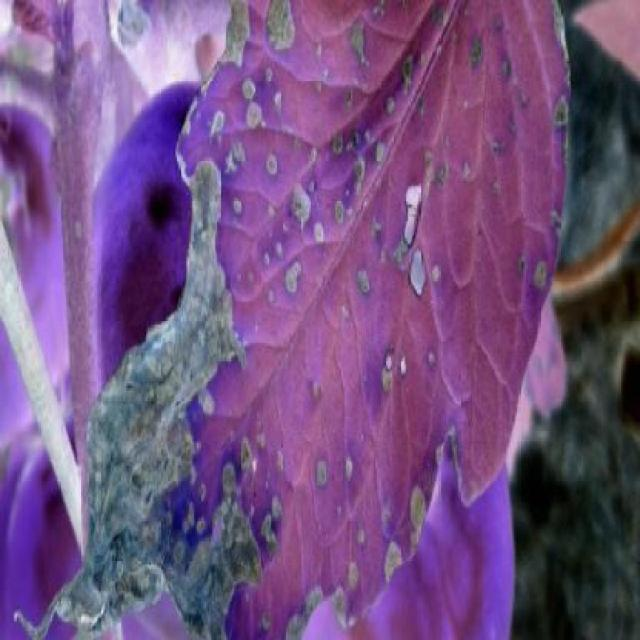Septoria leaf spot: (35, 10, 582, 638)
